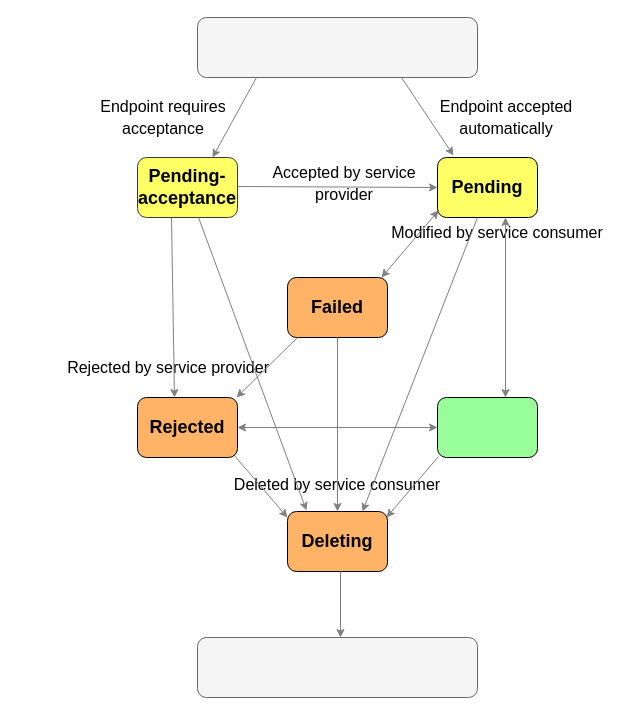
This 624x715 diagram has some shape labels left out. The centre of each missing label's shape, as x and y in pixels:
Available: the point at 487,427
Endpoint connection request (service consumer): the point at 337,47
No longer visible: the point at 337,667
